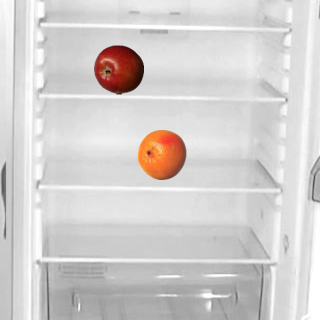Apple Braeburn: (93, 44, 143, 94)
Grapefruit Pink: (136, 129, 186, 179)
